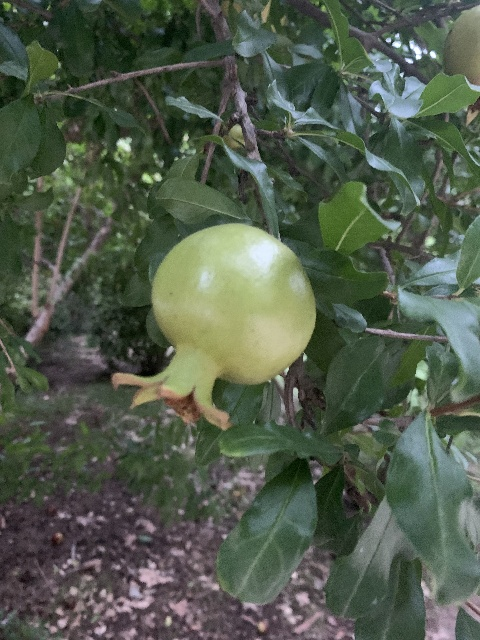mid-growth: (111, 223, 317, 429)
